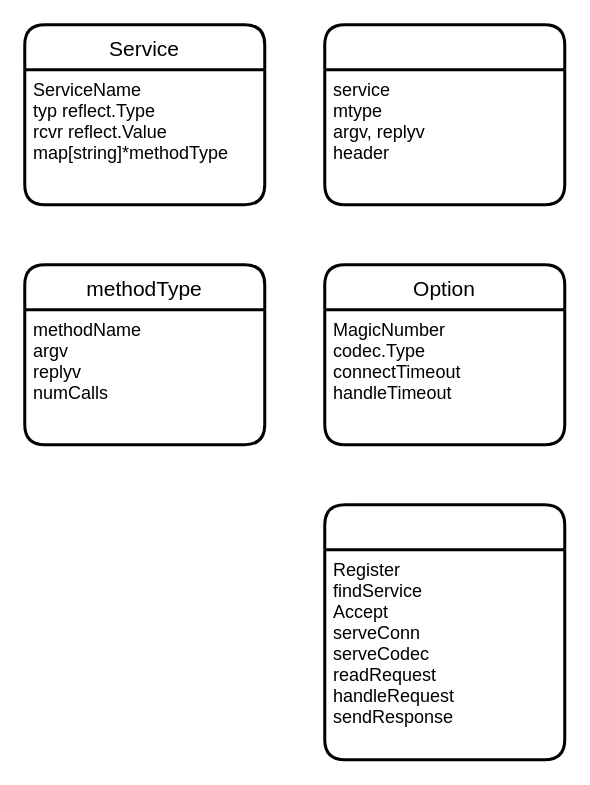
The diagram is 590 pixels wide and 785 high, and some of its shapes have lost their labels. Here are the shapes that lost their labels. From the top down, the box of each, then its label:
(322, 22, 566, 206): request
(322, 502, 566, 760): Server
